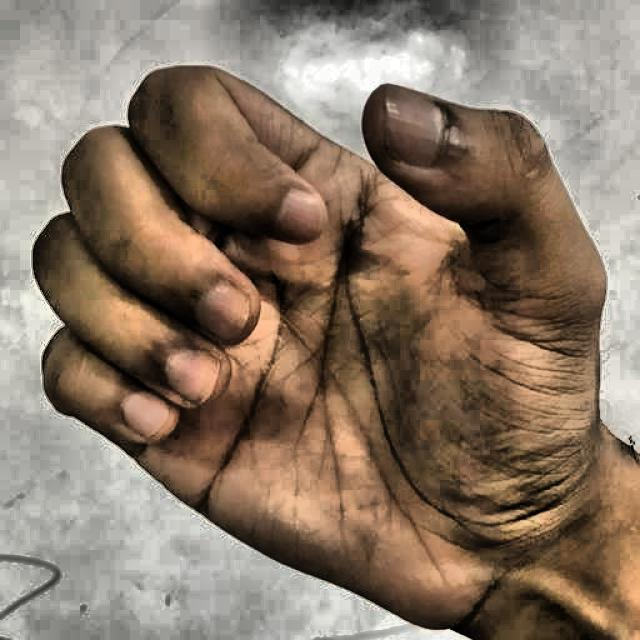Dho: (26, 31, 610, 627)
